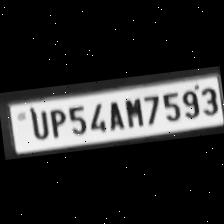3: (196, 82, 220, 116)
4: (84, 98, 106, 132)
5: (157, 88, 182, 122), (64, 100, 88, 135)
7: (140, 90, 161, 124)
9: (178, 85, 202, 118)
A: (102, 96, 124, 130)
M: (120, 94, 144, 128)
P: (44, 104, 67, 138)
U: (24, 106, 49, 139)
